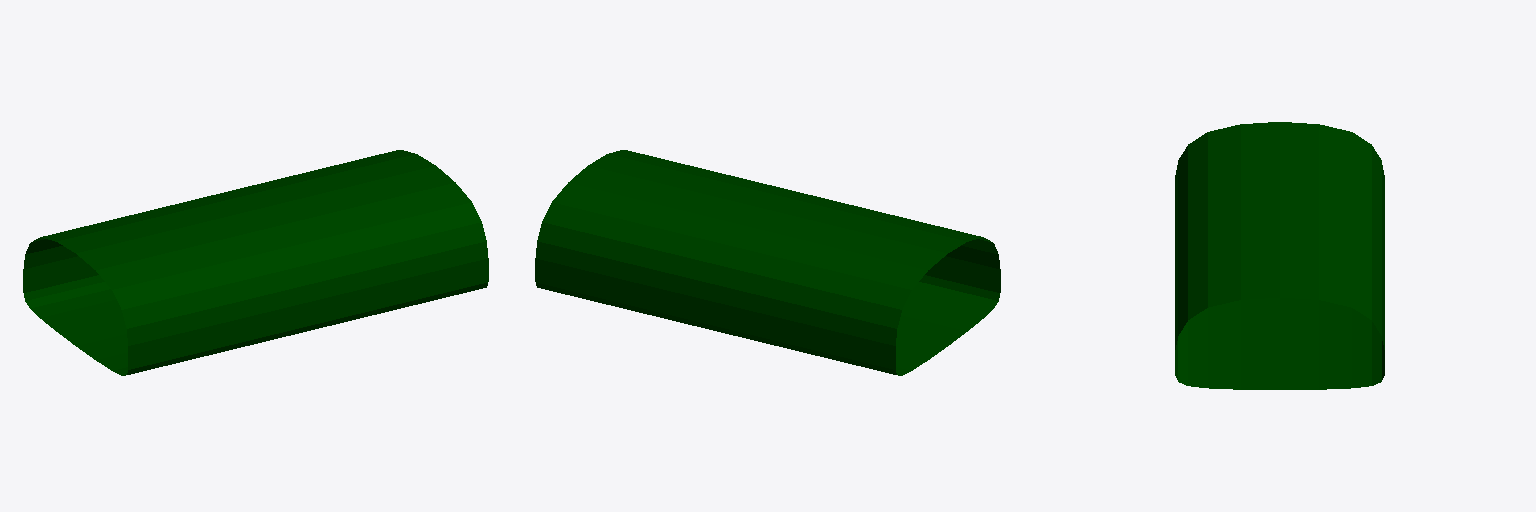
The model's file is body.obj.
The picture shows the model from 3 angles: view 1: azimuth 30°, elevation 25°; view 2: azimuth 150°, elevation 25°; view 3: azimuth 270°, elevation 25°; orthographic projection.
Parts seen in each view (by area): view 1: Straight_Link_Cube.002; view 2: Straight_Link_Cube.002; view 3: Straight_Link_Cube.002.
Boxes of the visible parts, box(x1,y1,x2,y2) form: Straight_Link_Cube.002: box(23, 150, 488, 375); Straight_Link_Cube.002: box(535, 150, 1000, 375); Straight_Link_Cube.002: box(1175, 122, 1384, 389).
Size of the model in its own units: 1 by 0.2461 by 0.504.